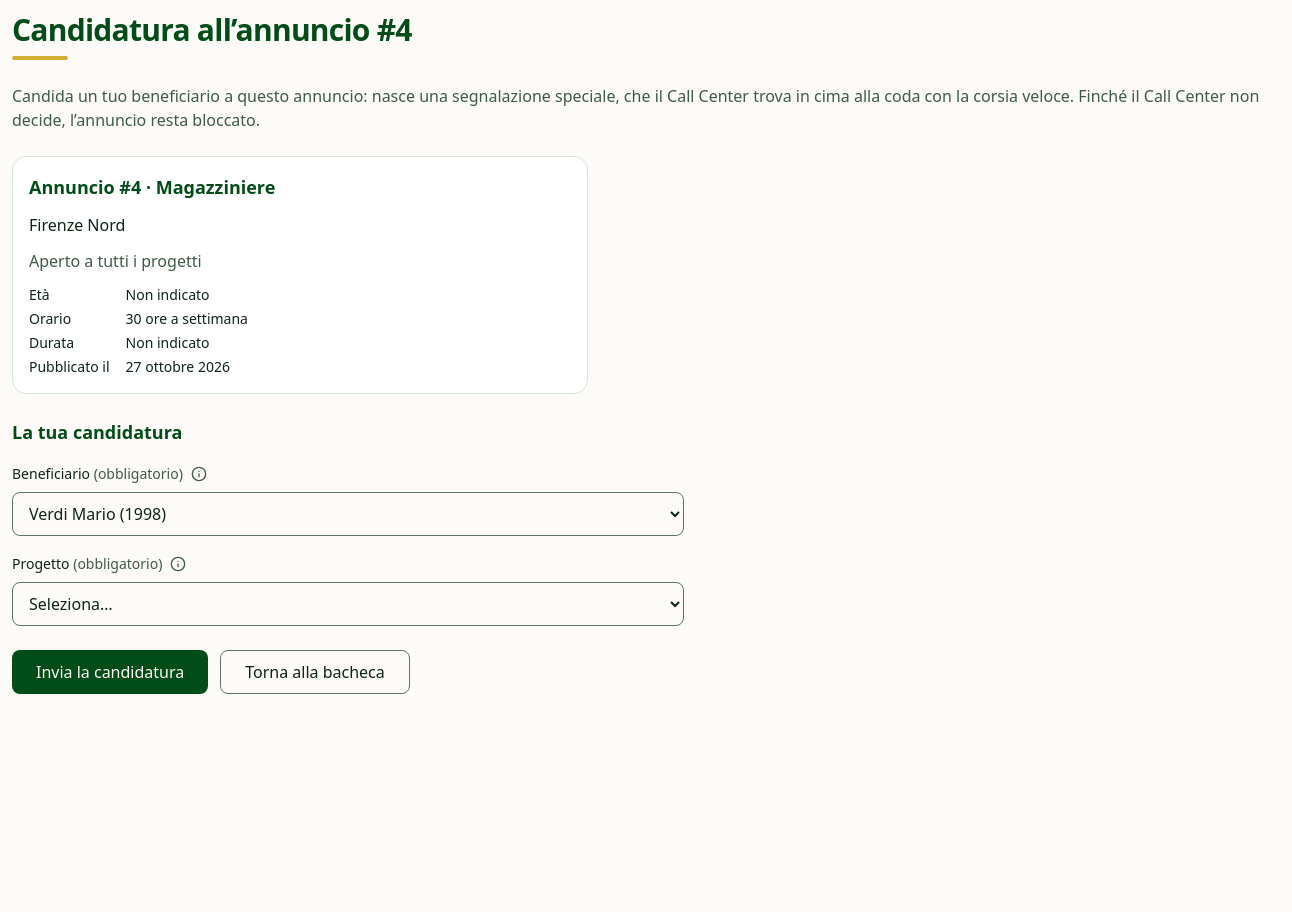
Test case: <CandidaturePage> › annuncio aperto a tutti: il progetto si sceglie ed è obbligatorio
Click the button "Invia la candidatura" at (110, 672), box 12,650 -> 208,694
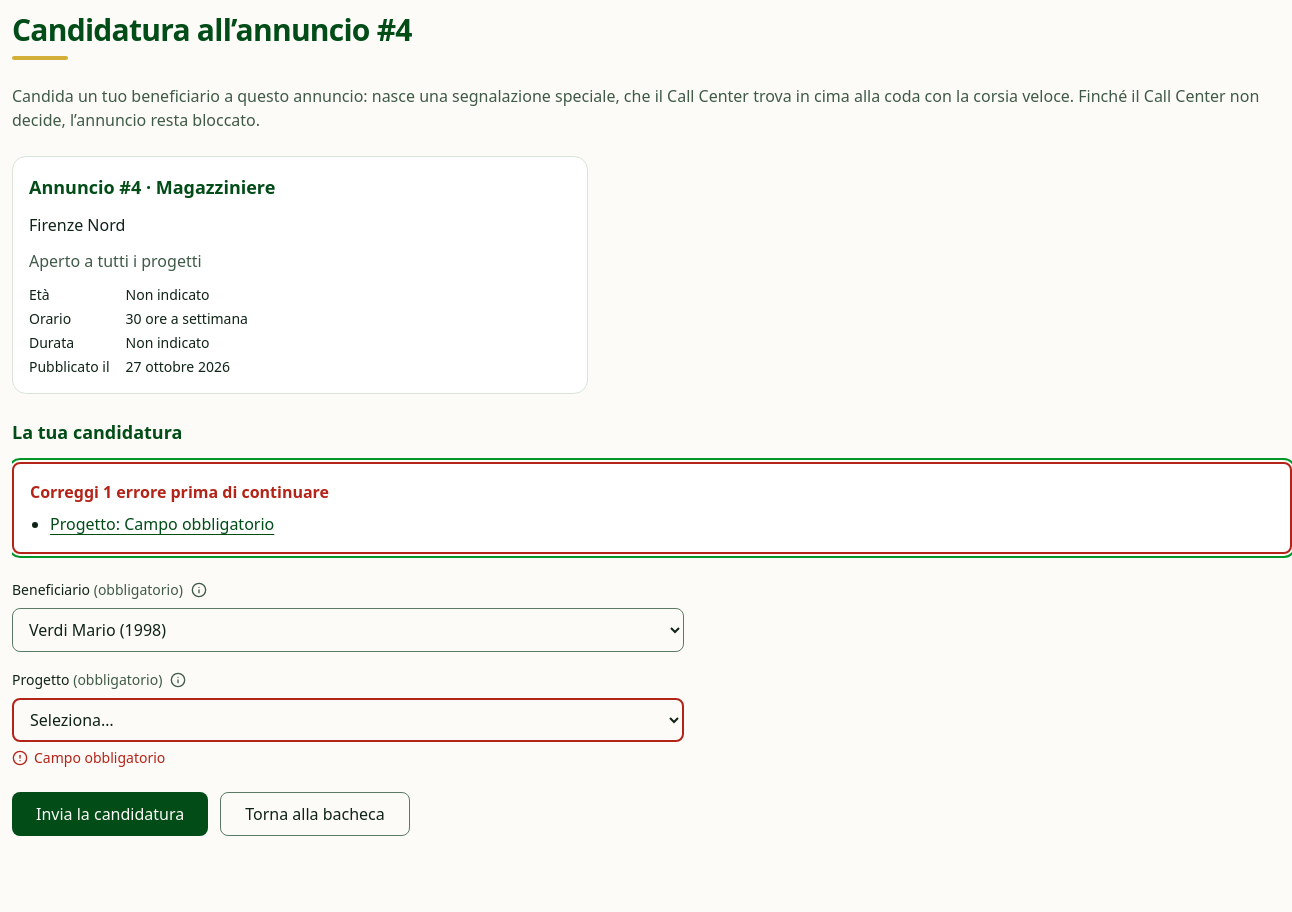
Check: the link "Progetto: Campo obbligatorio" is shown, box 50,513 -> 274,535
Select "POLIS" in the dropdown labelled "Progetto (obbligatorio)" at (348, 720), box 12,698 -> 684,742
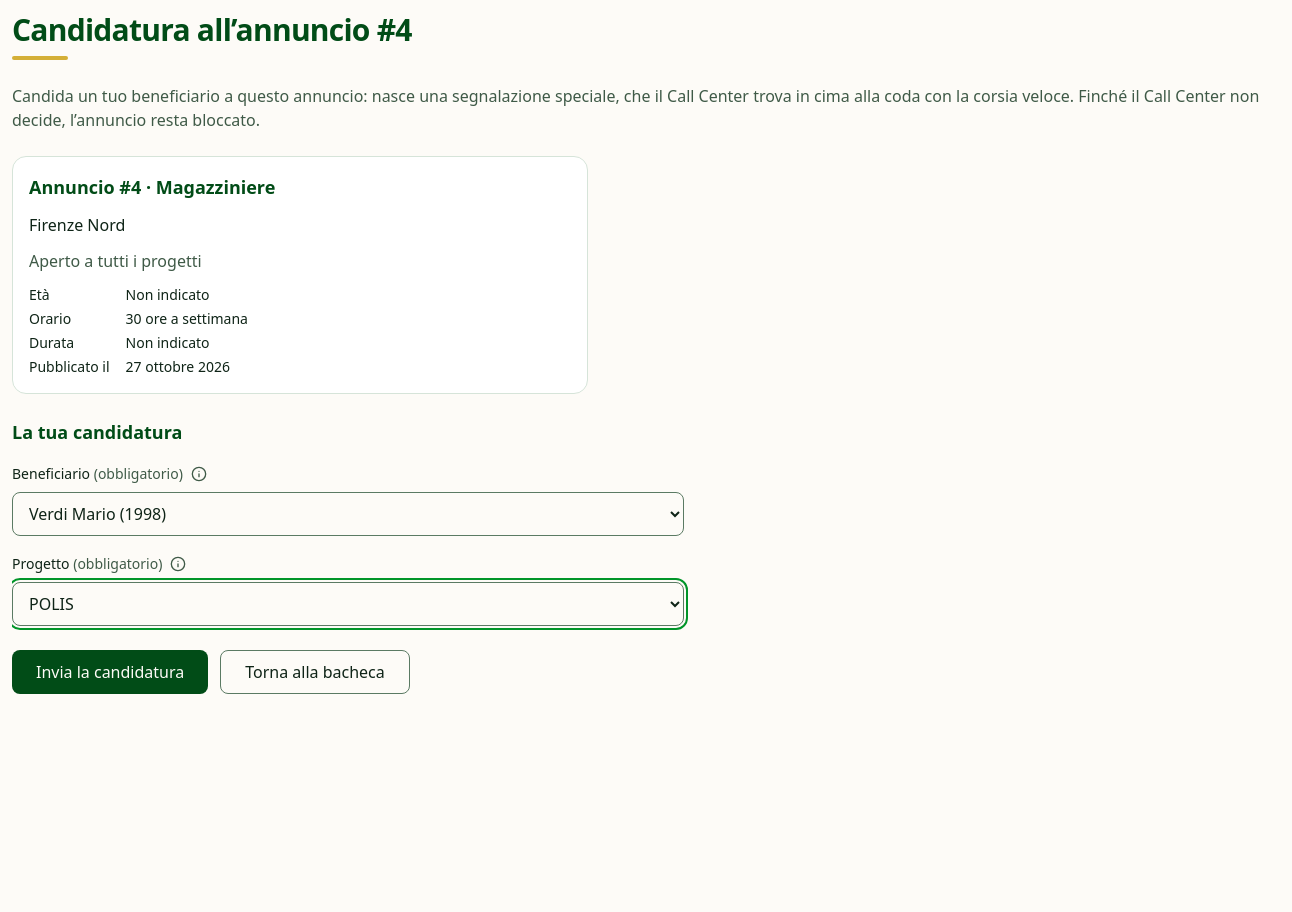
Click the button "Invia la candidatura" at (110, 672), box 12,650 -> 208,694
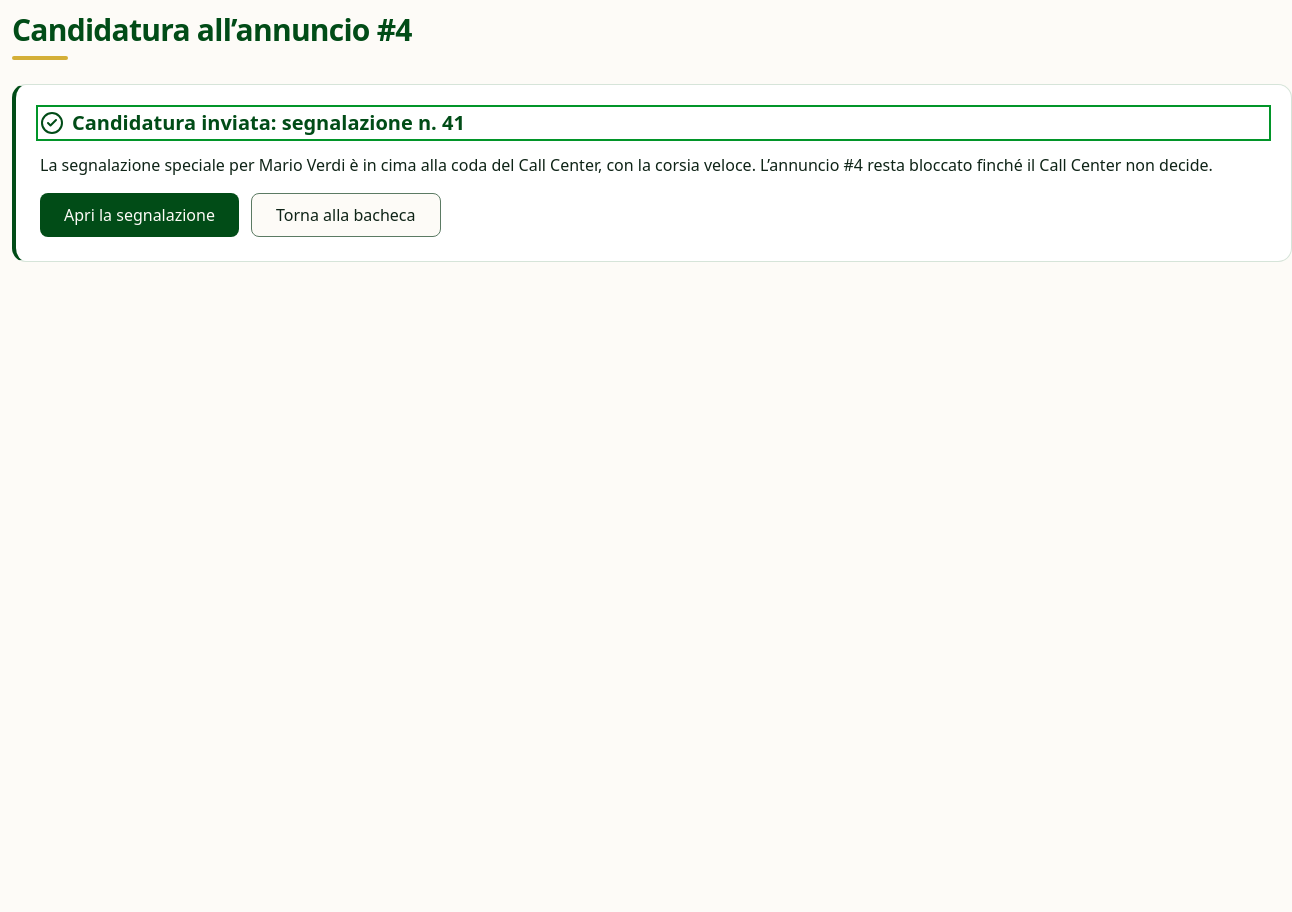
Check: the heading "Candidatura inviata: segnalazione n. 41" is shown, box 40,109 -> 465,136
